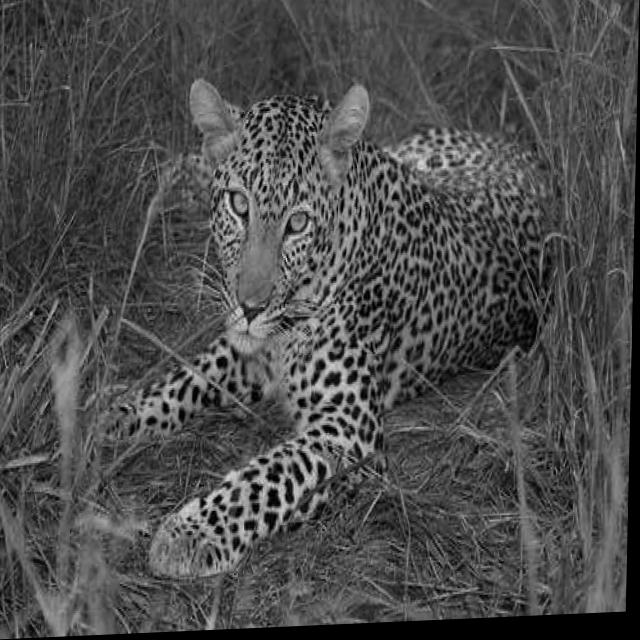Leopard: (80, 60, 565, 586)
